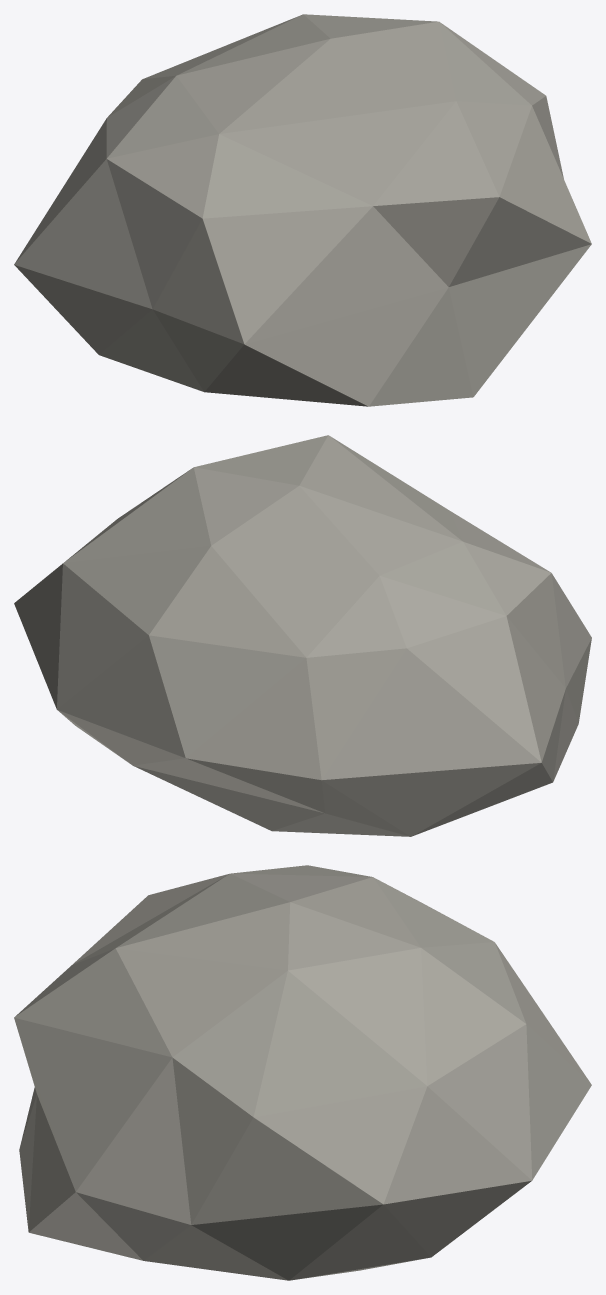
File: SM_Rock_Small.glb
3 views of the same model, one above another, from view 1: azimuth 30°, elevation 25°; view 2: azimuth 150°, elevation 25°; view 3: azimuth 270°, elevation 25° (orthographic). The views are drawn at different scales.
Parts seen in each view (by area): view 1: SM_Rock_Small; view 2: SM_Rock_Small; view 3: SM_Rock_Small.
Boxes of the visible parts, left/top/right/bottom form: SM_Rock_Small: left=14, top=14, right=591, bottom=406; SM_Rock_Small: left=14, top=435, right=591, bottom=836; SM_Rock_Small: left=14, top=865, right=591, bottom=1280.
Bounding box in the file's own units: 0.3754 × 0.1955 × 0.3167.
Materials: 1 (1 with a texture image).
